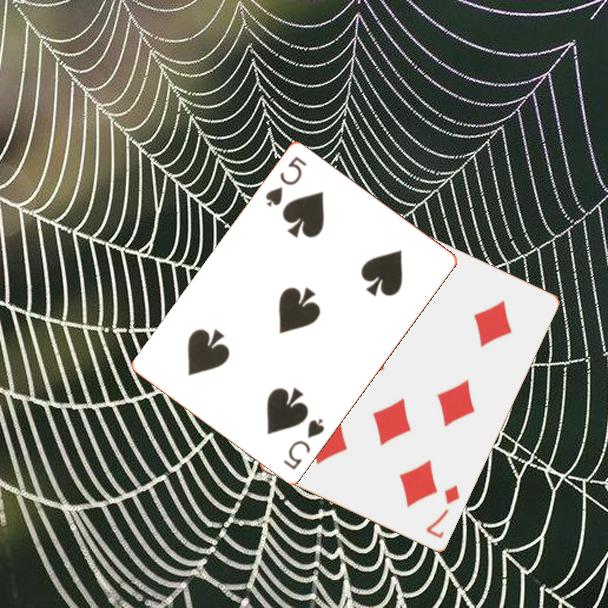d07: (423, 482, 463, 542)
s05: (280, 415, 328, 473), (262, 153, 310, 210)
